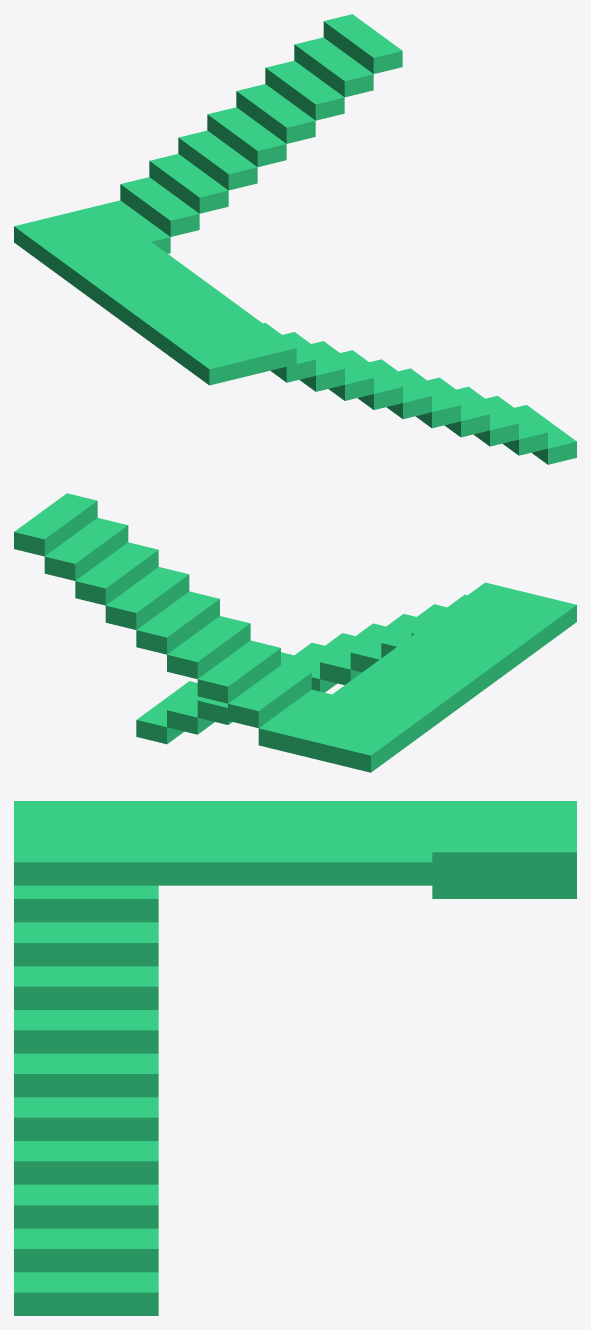
Rendered from stairs_w_UCX.fbx.
3 views of the same model, one above another, from view 1: azimuth 30°, elevation 25°; view 2: azimuth 150°, elevation 25°; view 3: azimuth 270°, elevation 25° (orthographic). The views are drawn at different scales.
Visible parts, largest first — view 1: Floor_0_Upper_StairCase, Floor_0_Plateau_StairCase, Floor_0_Lower_StairCase; view 2: Floor_0_Upper_StairCase, Floor_0_Plateau_StairCase, Floor_0_Lower_StairCase; view 3: Floor_0_Lower_StairCase, Floor_0_Plateau_StairCase, Floor_0_Upper_StairCase.
Part boxes in pixels (x1=…): Floor_0_Upper_StairCase: x1=92, y1=14, x2=402, y2=253; Floor_0_Plateau_StairCase: x1=14, y1=207, x2=296, y2=385; Floor_0_Lower_StairCase: x1=263, y1=323, x2=576, y2=464; Floor_0_Upper_StairCase: x1=14, y1=493, x2=341, y2=751; Floor_0_Plateau_StairCase: x1=279, y1=582, x2=576, y2=772; Floor_0_Lower_StairCase: x1=136, y1=594, x2=467, y2=744; Floor_0_Lower_StairCase: x1=14, y1=885, x2=158, y2=1315; Floor_0_Plateau_StairCase: x1=14, y1=801, x2=576, y2=885; Floor_0_Upper_StairCase: x1=432, y1=832, x2=576, y2=898.
Size of what is drawn, in the model's own units: 380 by 304 by 350.
